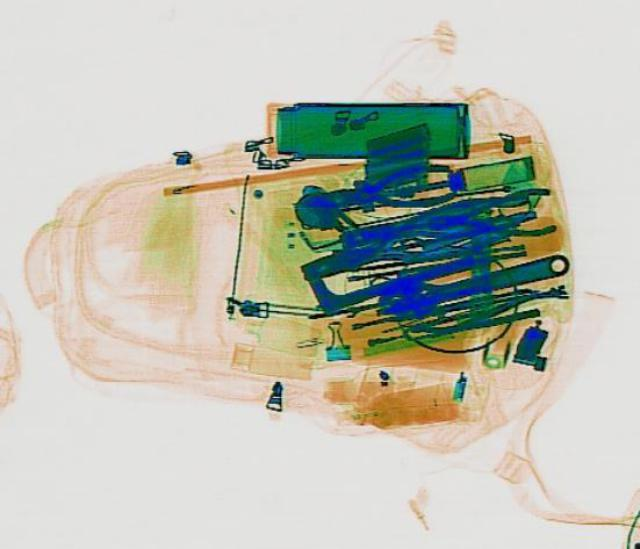Pliers: (296, 158, 458, 224), (420, 183, 556, 247)
Wrench: (364, 244, 574, 323)
